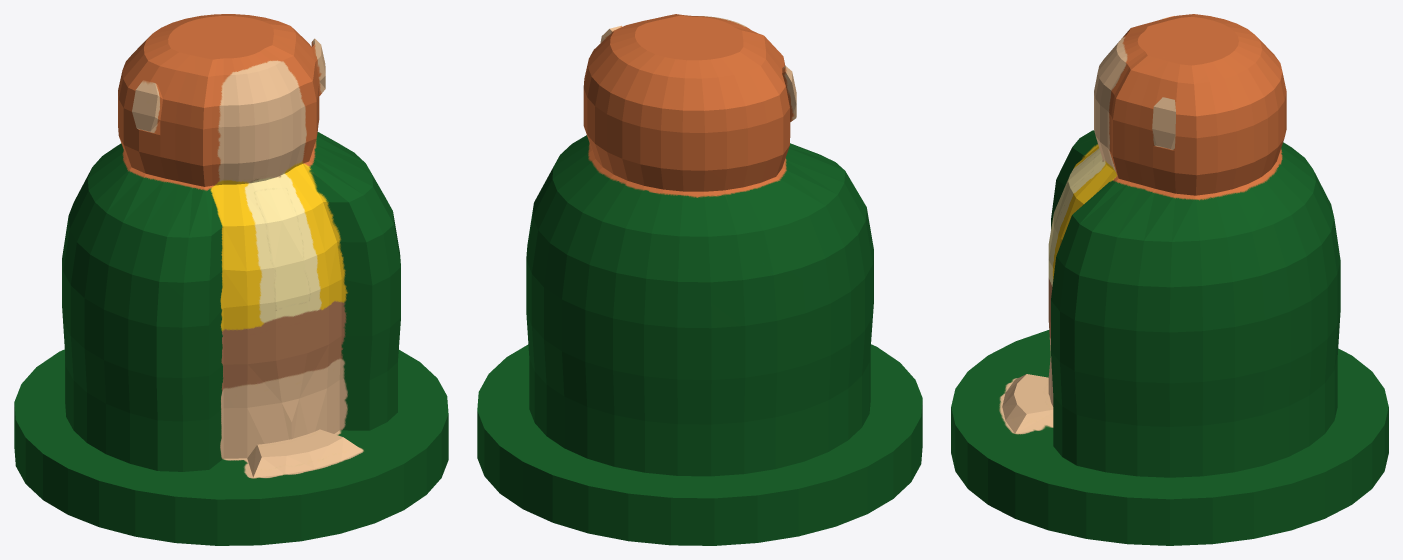
The model's file is merry.fbx.
The picture shows the model from 3 angles, left to right: view 1: azimuth 30°, elevation 25°; view 2: azimuth 150°, elevation 25°; view 3: azimuth 270°, elevation 25°; orthographic projection. The views are drawn at different scales.
Parts seen in each view (by area): view 1: node_id5; view 2: node_id5; view 3: node_id5.
Boxes of the visible parts, x1,y1,x2,y2 form: node_id5: [14, 14, 448, 545]; node_id5: [477, 14, 922, 545]; node_id5: [951, 14, 1388, 545].
Size of the model in its own units: 0.4925 by 0.512 by 0.4925.
Materials: 1 (1 with a texture image).
